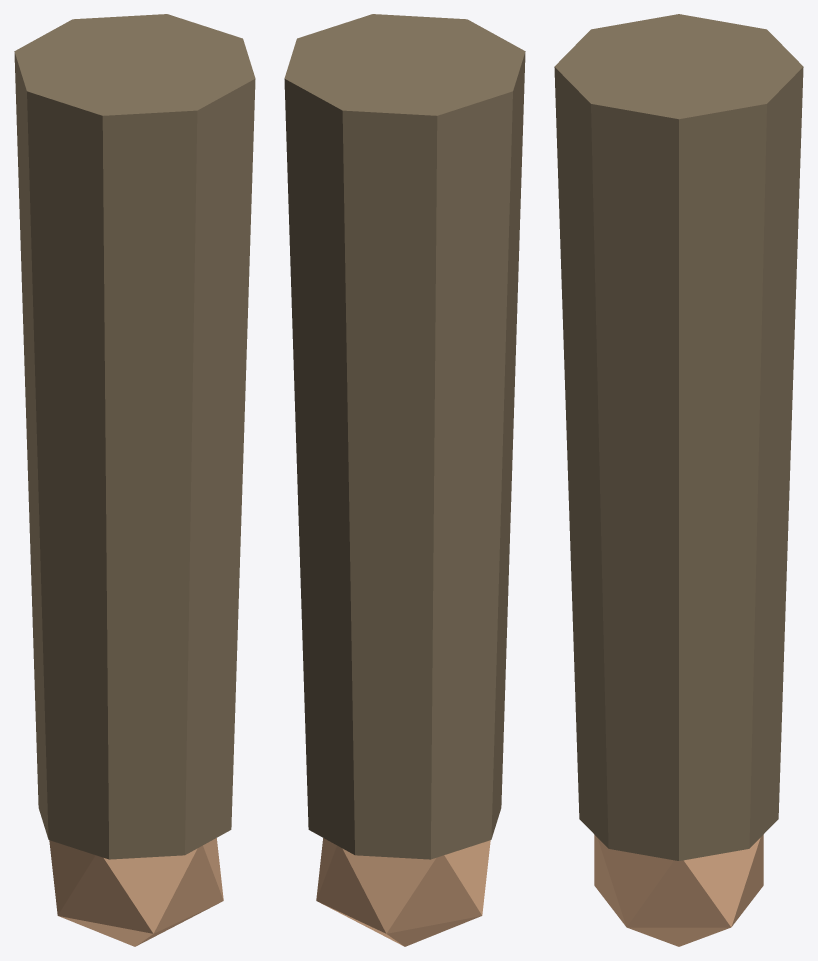
The model's file is insan_k2s_kol.glb.
3 renders of one model, left to right at view 1: azimuth 30°, elevation 25°; view 2: azimuth 150°, elevation 25°; view 3: azimuth 270°, elevation 25°, orthographic.
Parts seen in each view (by area): view 1: Cone; view 2: Cone; view 3: Cone.
Part boxes in pixels (x1,y1,x2,y2): Cone: [14, 14, 255, 946]; Cone: [284, 14, 525, 946]; Cone: [554, 14, 803, 946].
Size of the model in its own units: 0.03 by 0.117 by 0.03.
